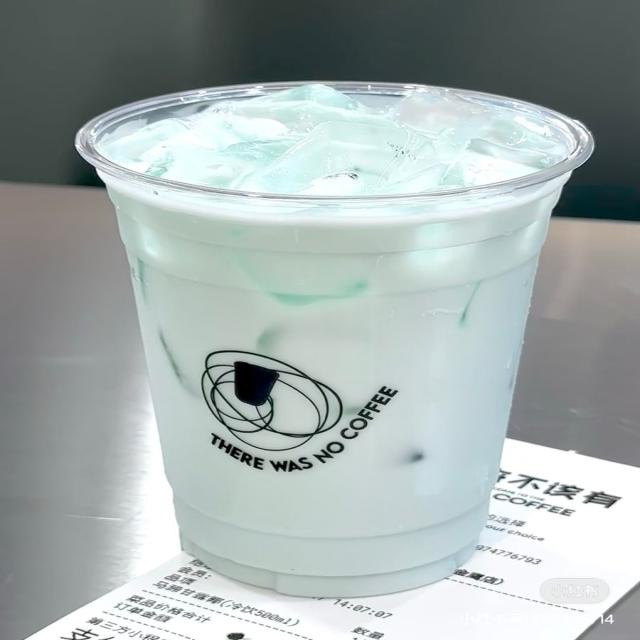plastic cup: (76, 79, 595, 600)
